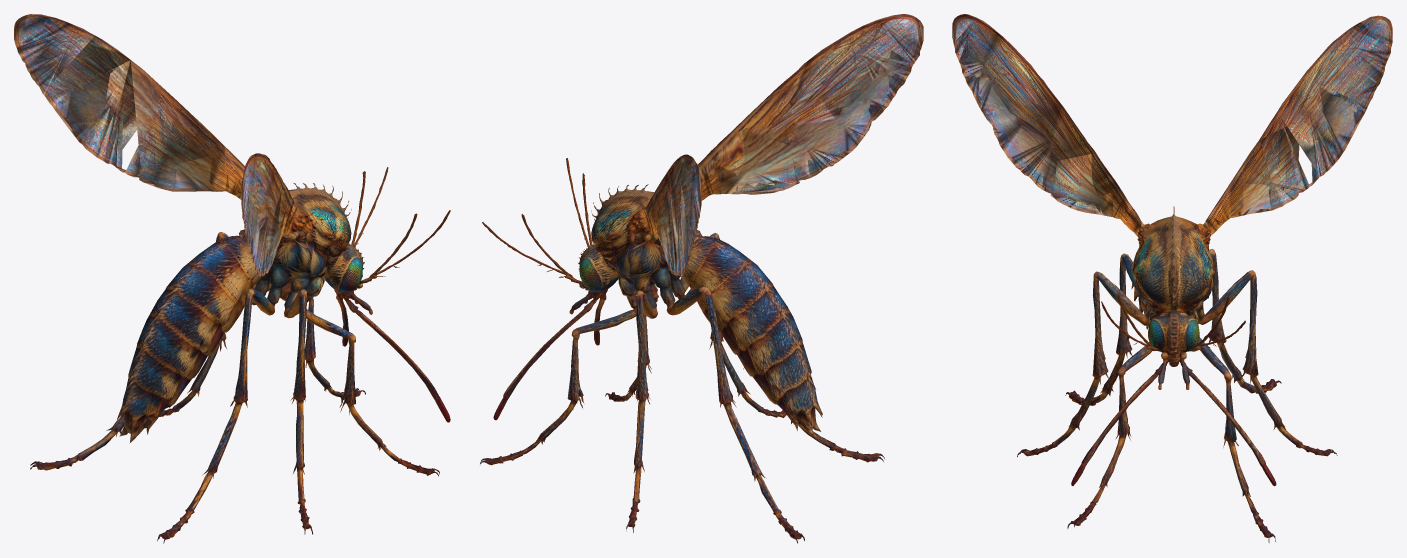
The picture shows the model from 3 angles, left to right: view 1: azimuth 30°, elevation 25°; view 2: azimuth 150°, elevation 25°; view 3: azimuth 270°, elevation 25°; orthographic projection. The views are drawn at different scales.
Parts seen in each view (by area): view 1: Model; view 2: Model; view 3: Model.
Part boxes in pixels (<box>): Model: <box>14,14,450,543</box>; Model: <box>480,14,923,543</box>; Model: <box>952,14,1392,542</box>.
Size of the model in its own units: 0.8748 by 1 by 1.
1 material, 1 textured.
